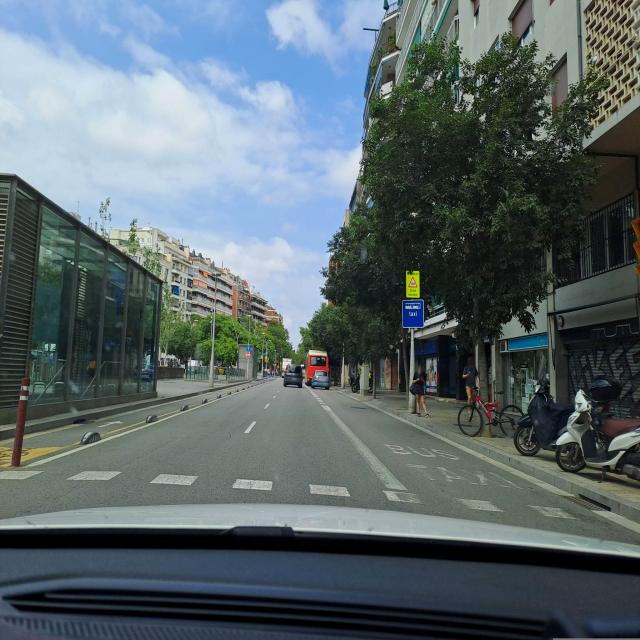bike: (554, 391, 640, 476), (512, 375, 576, 457), (456, 387, 511, 438)
car: (283, 364, 303, 388)
